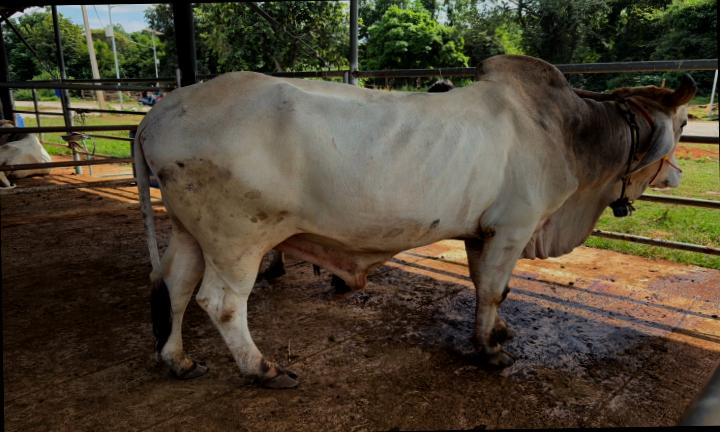Brahman: (134, 55, 695, 388)
